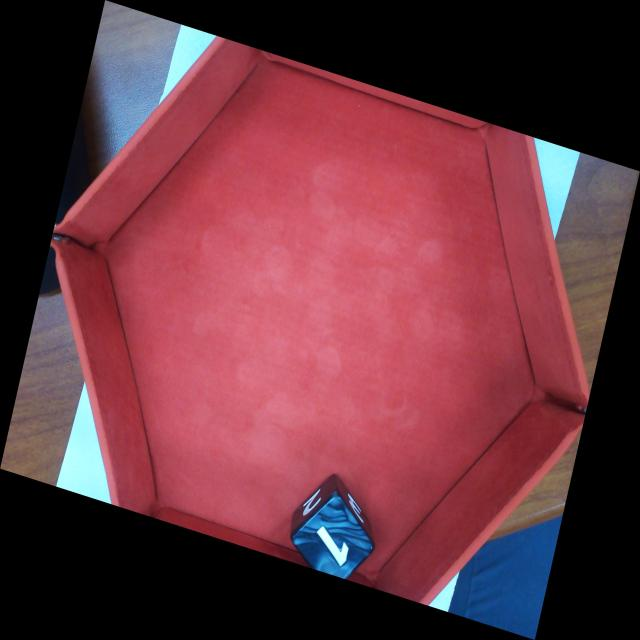dice: (288, 486, 379, 598)
